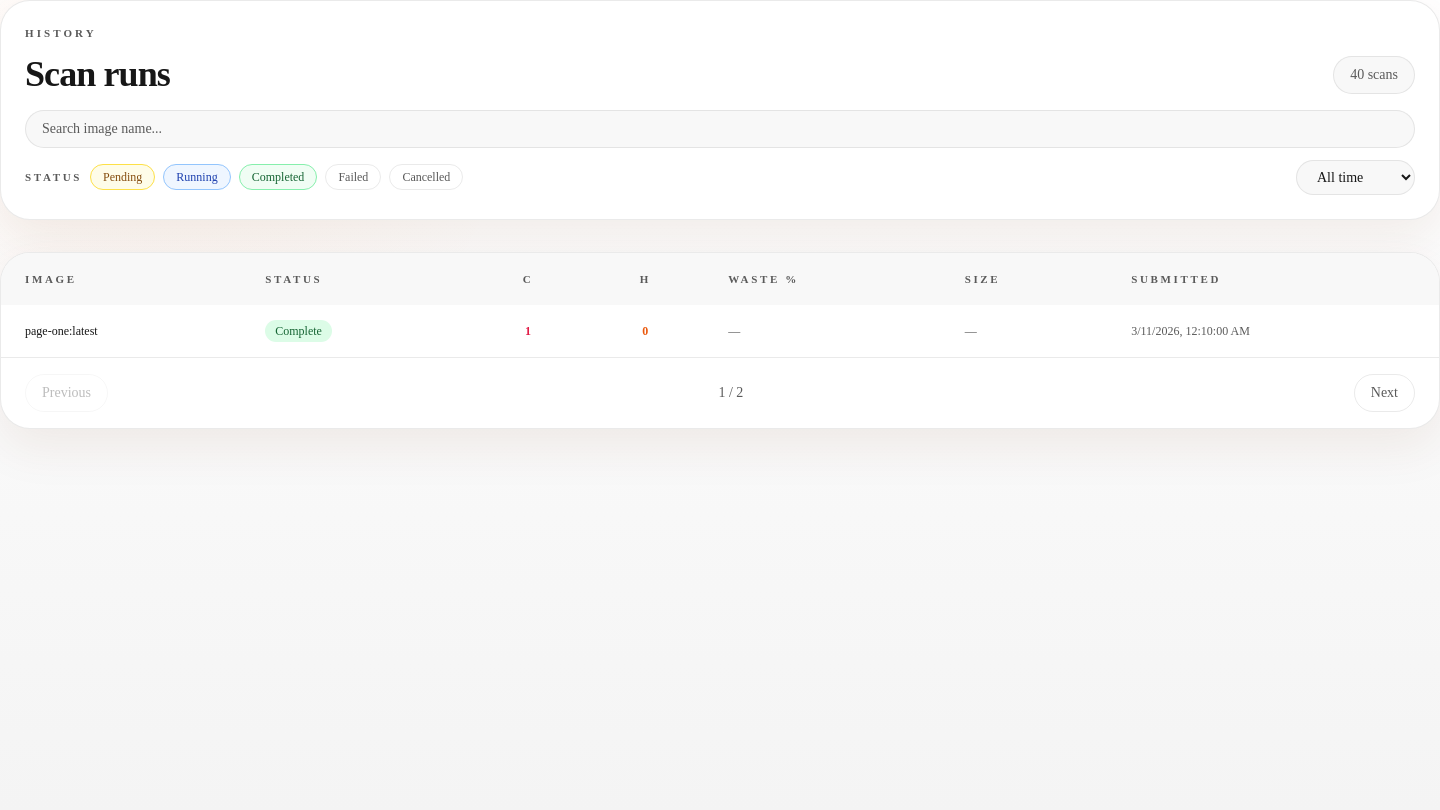
keeps the last successful page visible when a later pagination request fails
The image size is (1440, 810).
Expected: the text "1 / 2" is shown, [718,382,743,402]
Click the button "Next": (1384, 392) [1354,374,1415,412]
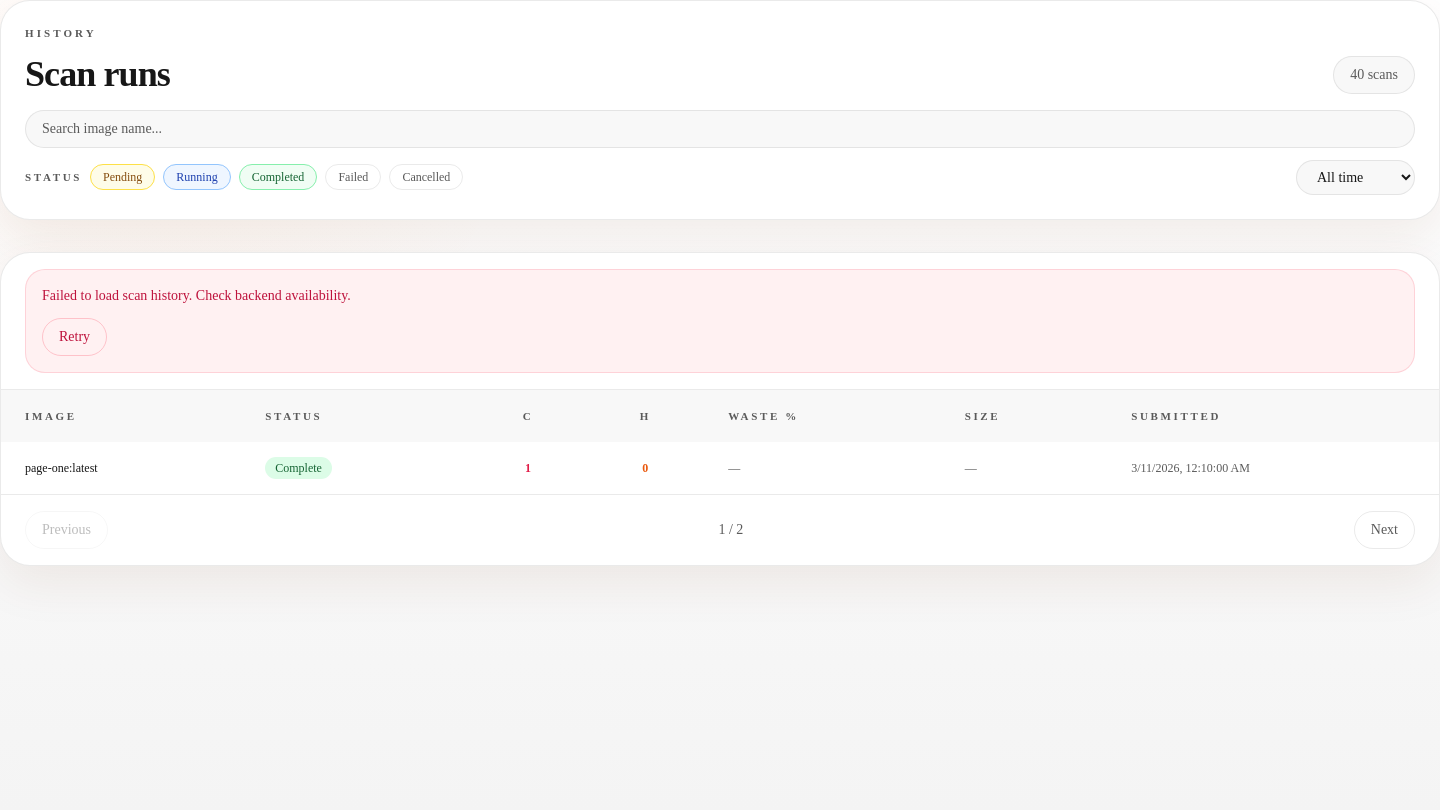
Expected: the text "1 / 2" is shown, [718,520,743,540]
Expected: the text "Failed to load scan history. Check backend availability." is shown, [42,288,351,302]
